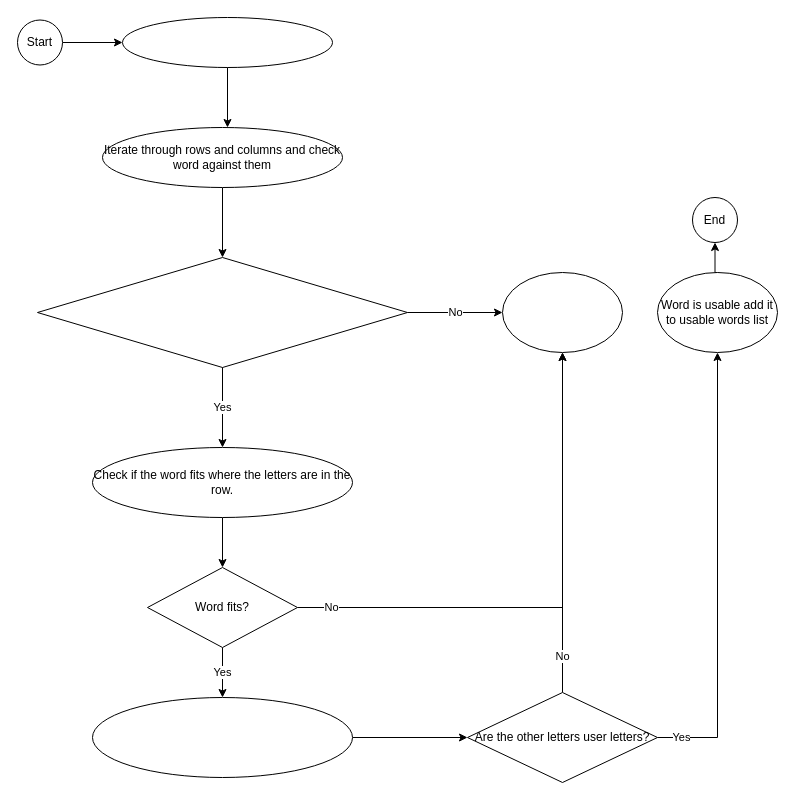
Image size: 795x800. Some labels were removed from this diagram. The shapes that lost their labels are listed below. From the top down, each one's centre as x and y in pixels, then its label:
At (227,42): "Get user letters".
At (222,312): "Does row contain letters that are in the word being checked?".
At (562,312): "Word is not usable".
At (222,737): "Check if other letters in the word are in the user letters.".
